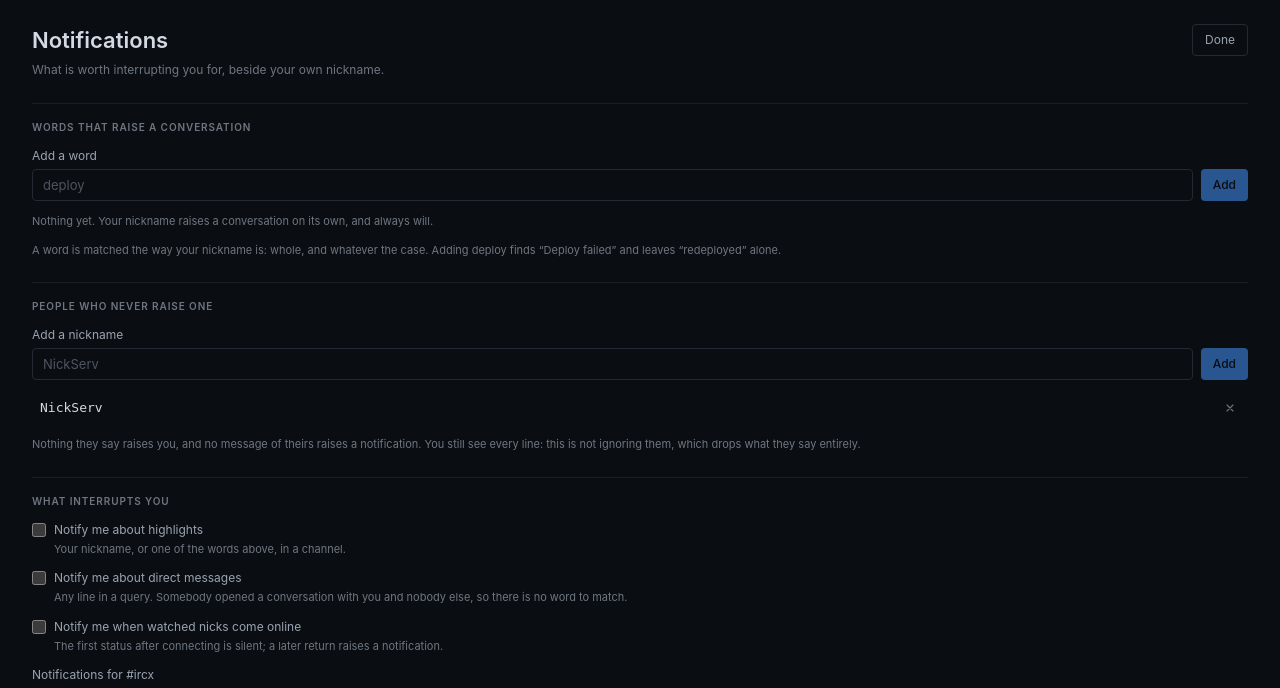
Test: people who never raise a conversation › refuses a name already on the list, whatever its case
Check: the text "NickServ" is shown, box [40,398,103,418]
Type "nickserv" into the field labelled "Add a nickname" at x=612, y=364, box [32,348,1193,380]
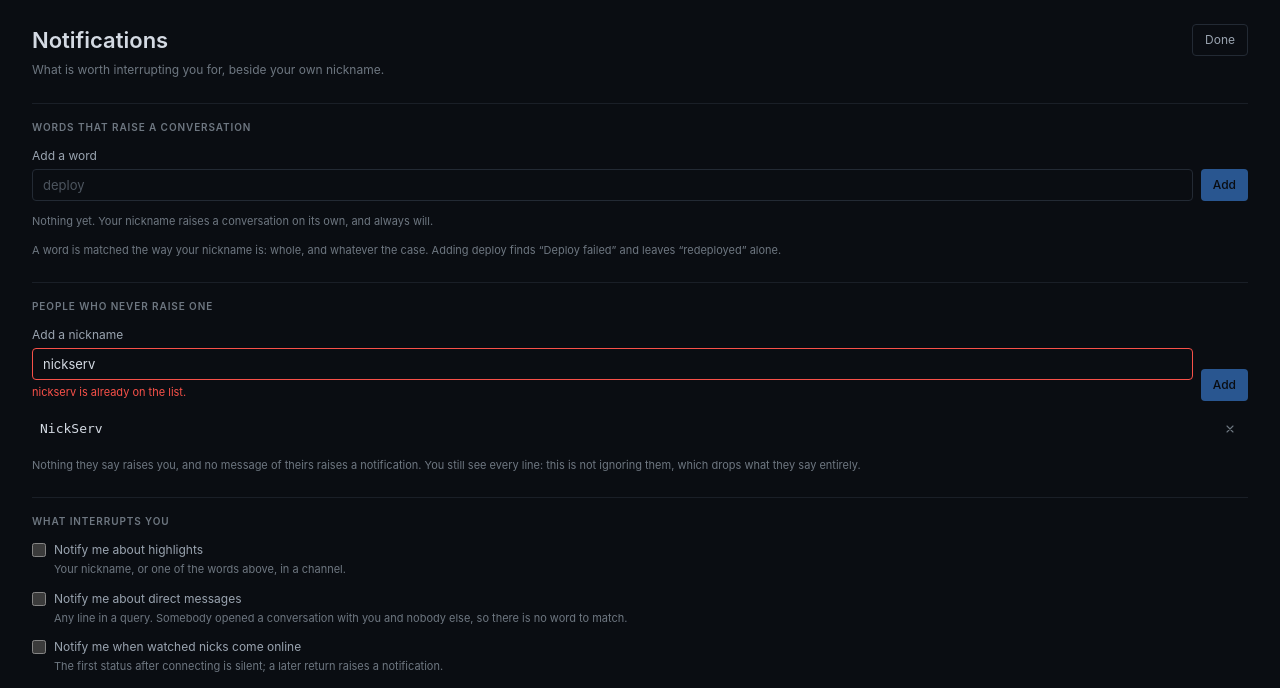
Check: the button with aria-label "Add nickname" is disabled, box [1201,368,1248,400]
Check: the text "nickserv is already on the list." is shown, box [32,385,186,399]
